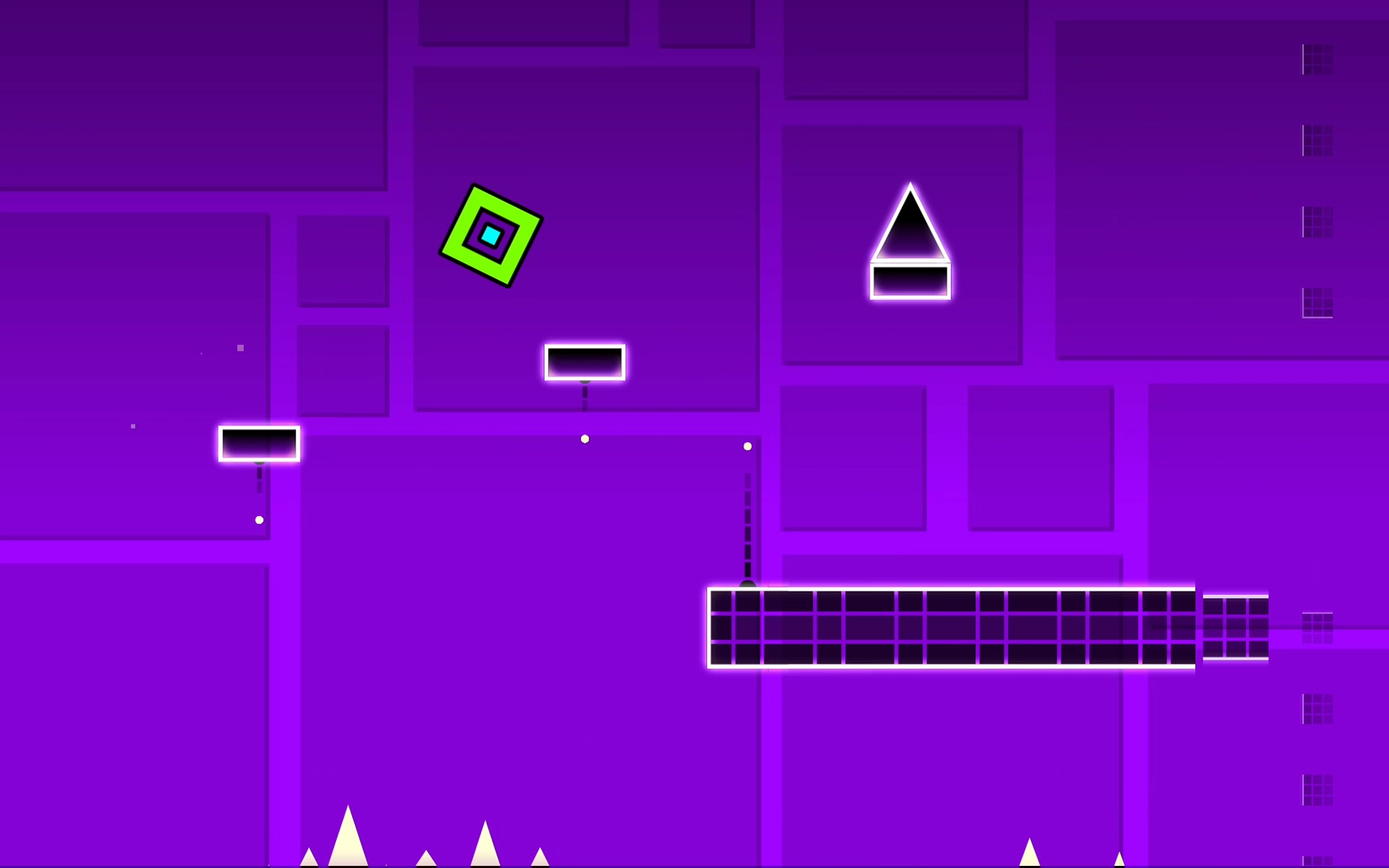Block2: (697, 586, 1289, 663)
Block3: (547, 343, 631, 381), (218, 426, 302, 462), (869, 265, 953, 301)
Player: (437, 188, 541, 289)
Spike: (873, 185, 952, 264)
